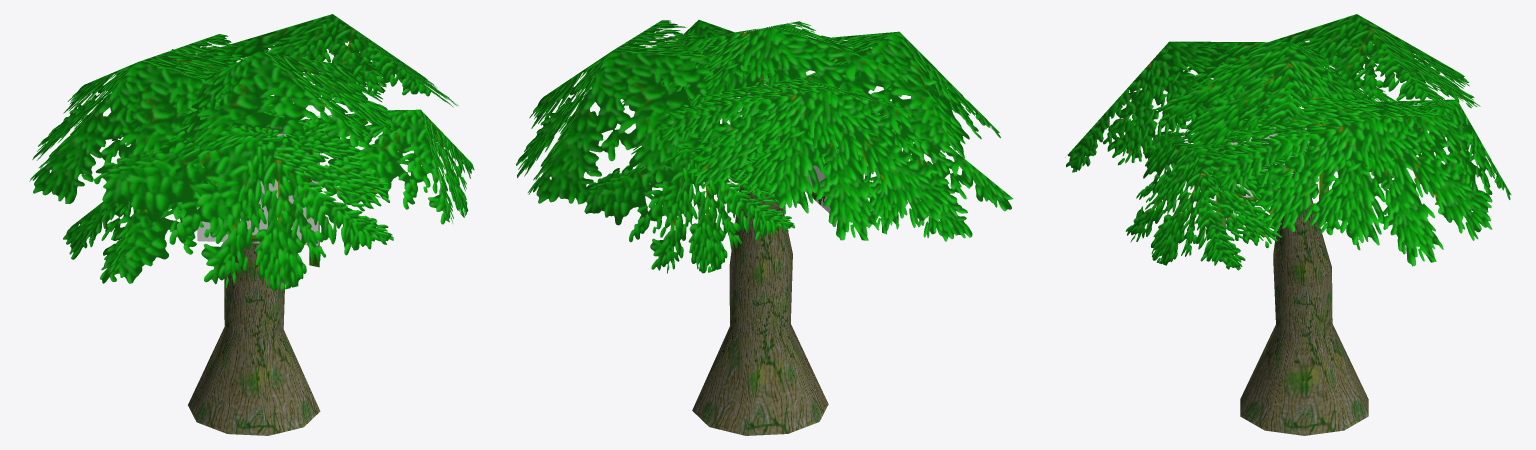
The model's file is tree05.obj.
3 renders of one model, left to right at view 1: azimuth 30°, elevation 25°; view 2: azimuth 150°, elevation 25°; view 3: azimuth 270°, elevation 25°, orthographic. The views are drawn at different scales.
Visible parts, largest first — view 1: Duplicate14, Duplicate12, Cylinder03, Sphere02, Duplicate16, Duplicate13, Duplicate15, Box01; view 2: Duplicate12, Duplicate13, Cylinder03, Duplicate17, Sphere02, Duplicate14, Duplicate15, Duplicate16; view 3: Duplicate13, Cylinder03, Sphere02, Duplicate16, Duplicate14, Duplicate12, Duplicate17.
Part boxes in pixels (box(x1,y1,x2,y2)): Duplicate14: box(94, 95, 393, 290); Duplicate12: box(29, 34, 275, 203); Cylinder03: box(188, 127, 320, 435); Sphere02: box(120, 51, 393, 172); Duplicate16: box(300, 109, 474, 224); Duplicate13: box(196, 14, 458, 107); Duplicate15: box(63, 175, 263, 283); Box01: box(197, 134, 318, 245); Duplicate12: box(655, 67, 951, 240); Duplicate13: box(516, 20, 750, 204); Cylinder03: box(692, 116, 828, 435); Duplicate17: box(584, 128, 794, 273); Sphere02: box(647, 21, 936, 165); Duplicate14: box(763, 31, 1000, 158); Duplicate15: box(820, 112, 1013, 241); Duplicate16: box(620, 20, 785, 106); Duplicate13: box(1212, 88, 1492, 266); Cylinder03: box(1240, 146, 1368, 435); Sphere02: box(1153, 42, 1396, 160); Duplicate16: box(1125, 126, 1291, 270); Duplicate14: box(1065, 41, 1323, 172); Duplicate12: box(1215, 14, 1480, 111); Duplicate17: box(1363, 99, 1511, 222).
Size of the model in its own units: 287 by 227 by 268.
